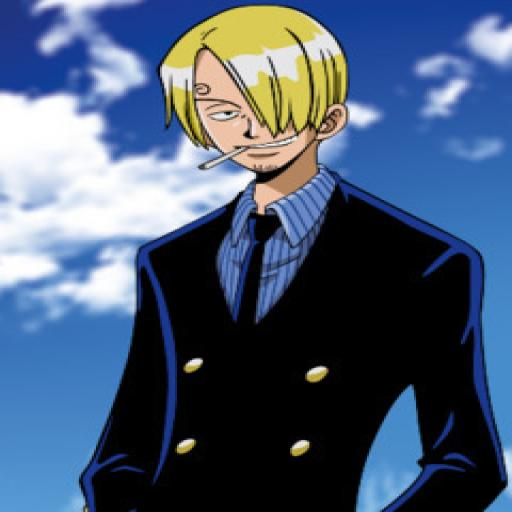sanji: (57, 1, 512, 512)
